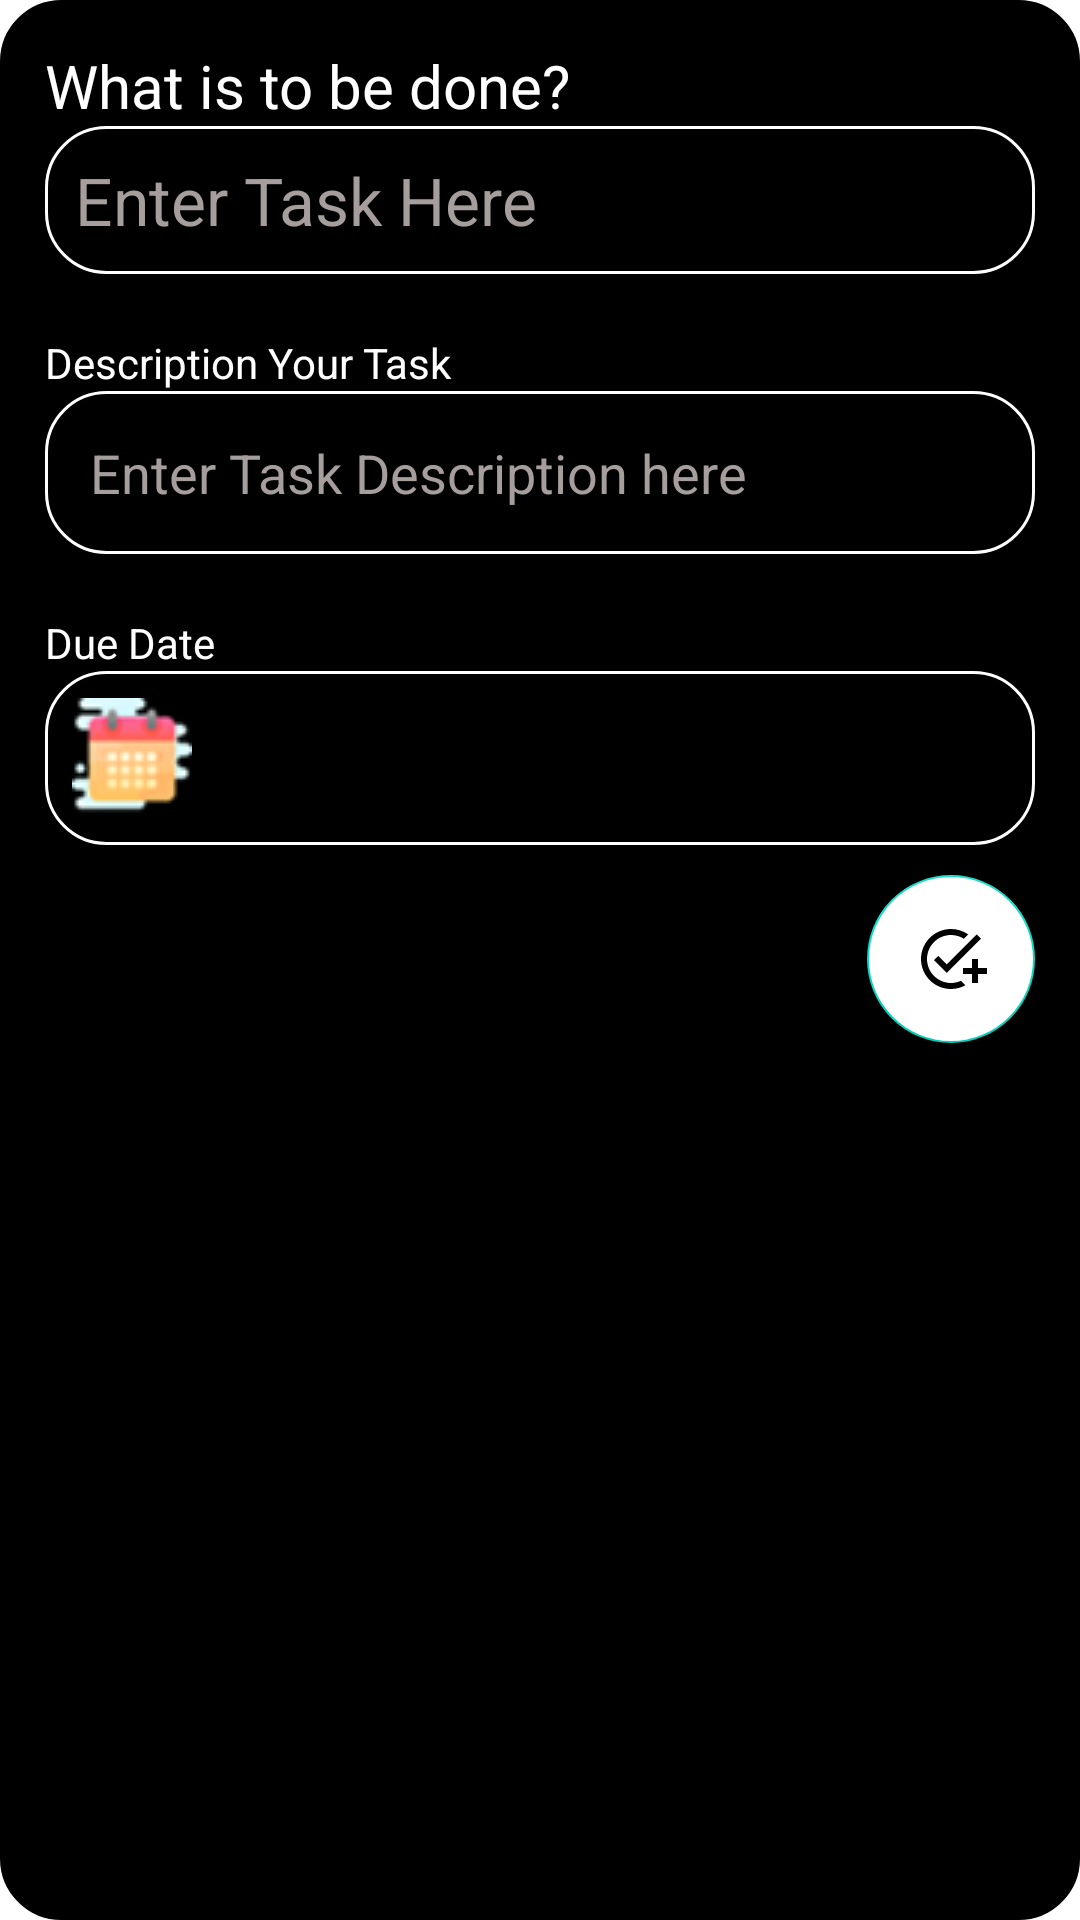

Icons on this 1080px×1920px Android screen, each with the point to tap as (x=x, y=y):
addtask: (x=951, y=959)
